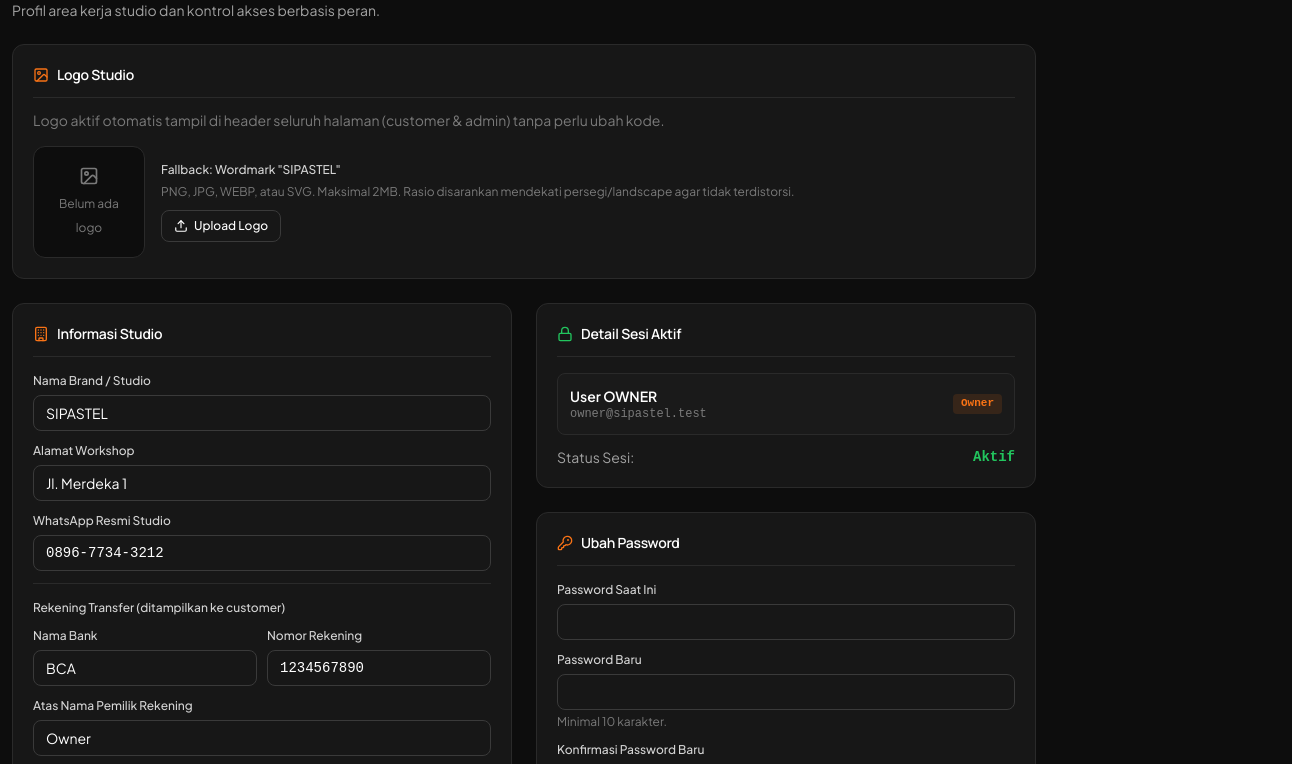
Scenario: SettingsView - studio profile › requires a complete bank block when any bank field is filled
The width and height of the screenshot is (1292, 764).
Expected: the field labelled "Nama Brand / Studio" holds "SIPASTEL", [33,395,491,431]
Replace the text in the field labelled "Nomor Rekening" with "12" at (379, 668), box [267,650,491,686]
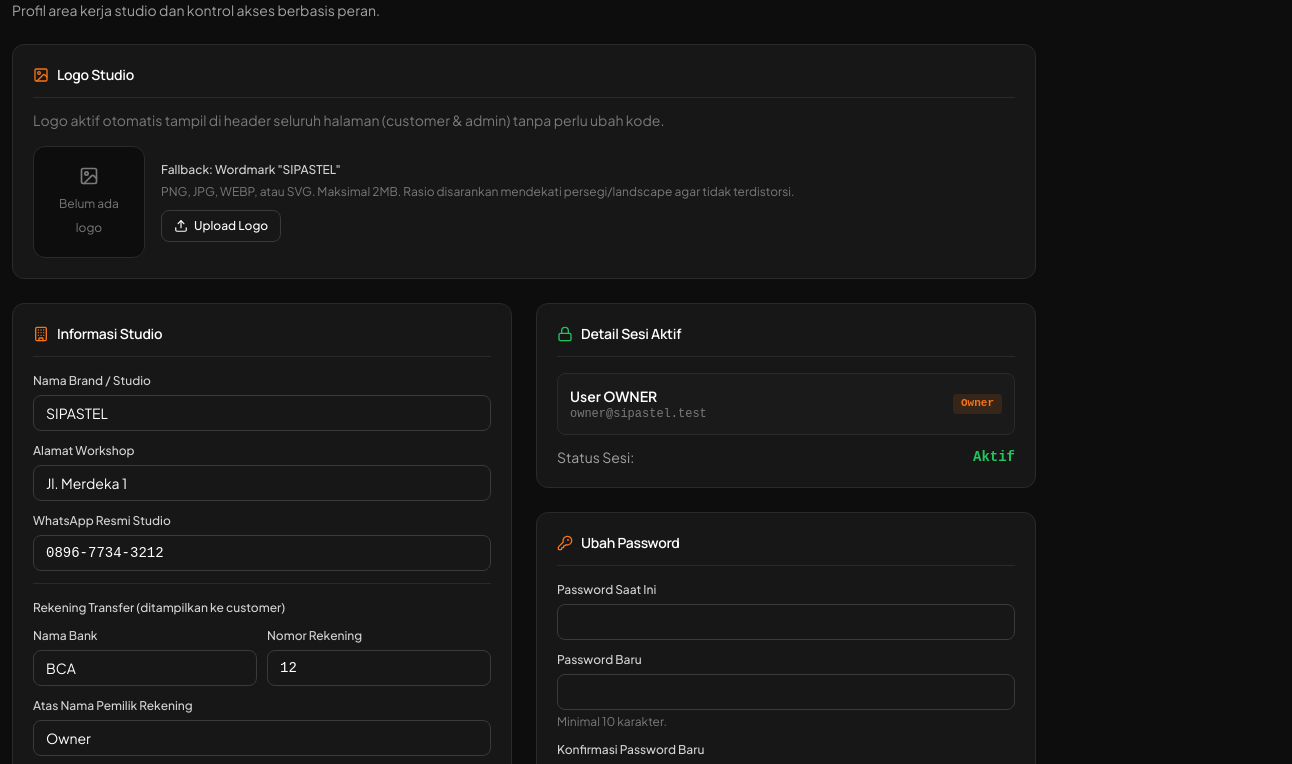
Clear the field labelled "Atas Nama Pemilik Rekening" at (262, 738), box [33,720,491,756]
(page scrolled)
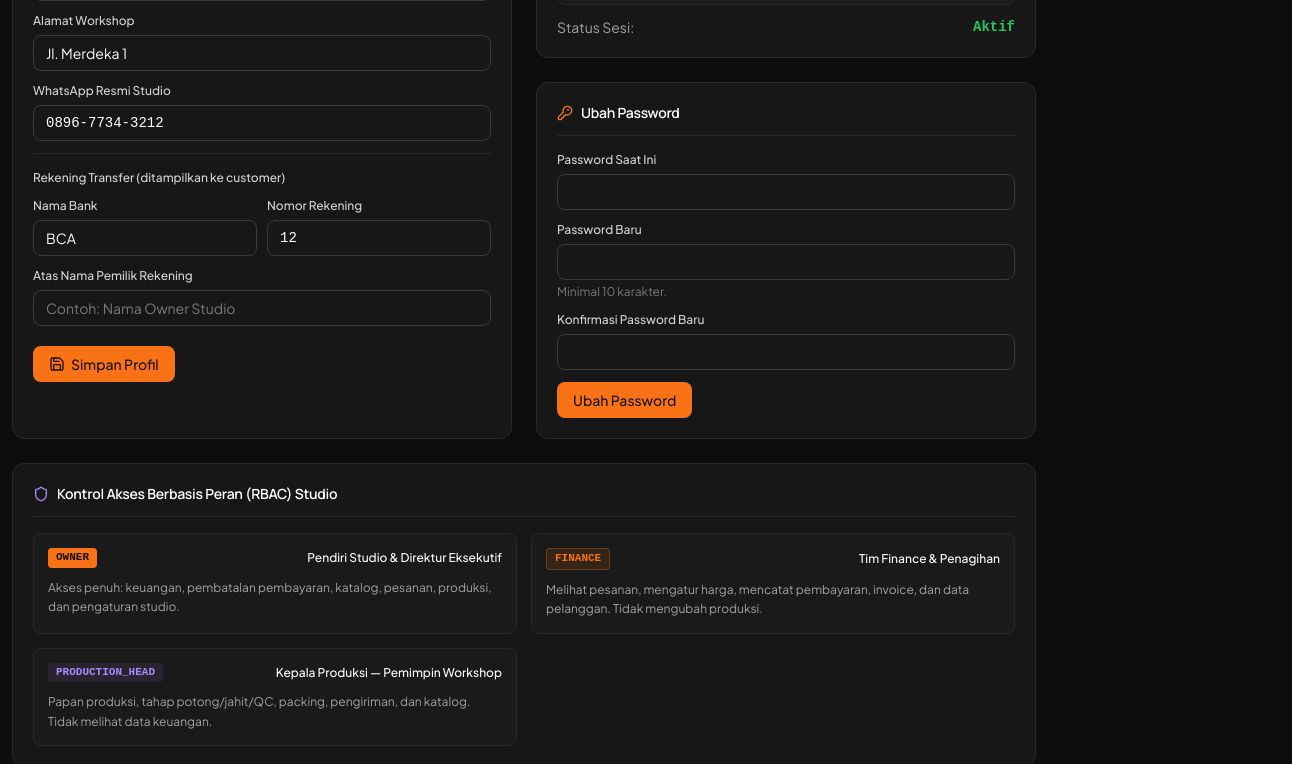
Click the button "Simpan Profil" at (104, 364), box [33,346,175,382]
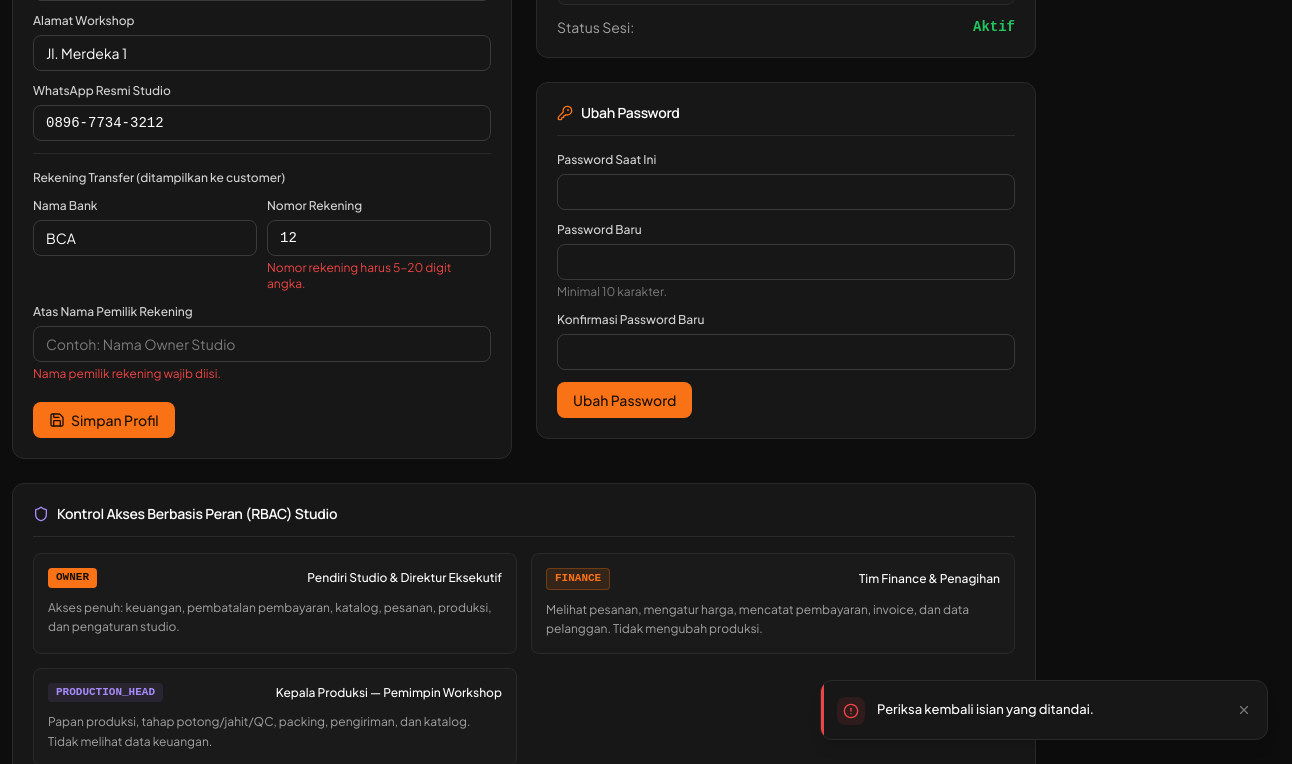
Now the text "Nomor rekening harus 5–20 digit angka." is shown, box [267,260,452,291]
Now the text "Nama pemilik rekening wajib diisi." is shown, box [33,366,221,381]
